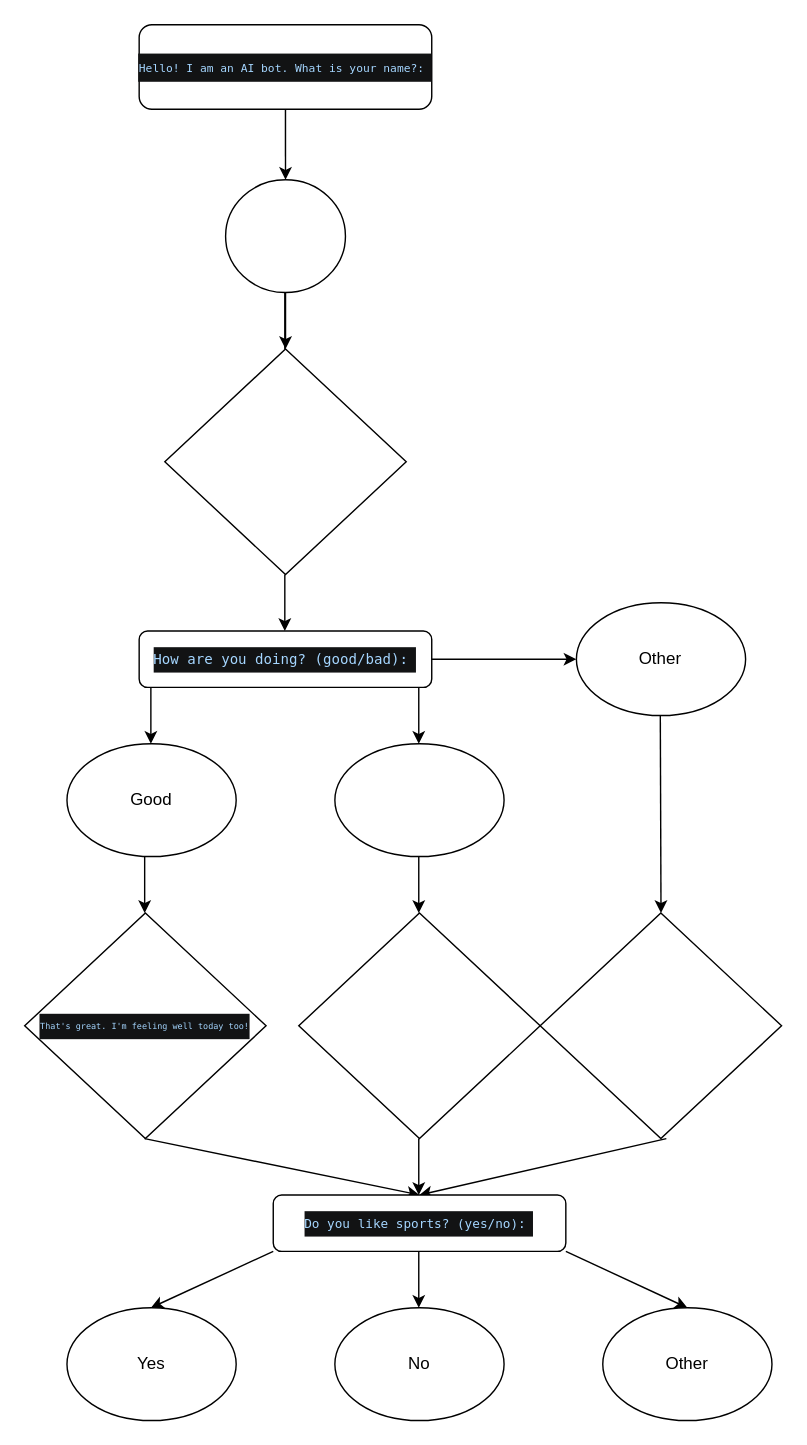
This 807x1445 diagram has some shape labels left out. The box of each missing label's shape, as (x1, y1, x2, y2) in pixels:
<name>: (224, 178, 345, 293)
Bad: (333, 742, 504, 857)
Hello { name } ! Hope you're doing well!: (163, 348, 406, 575)
Hope you get better later: (297, 912, 540, 1139)
Understood.: (539, 912, 782, 1139)
